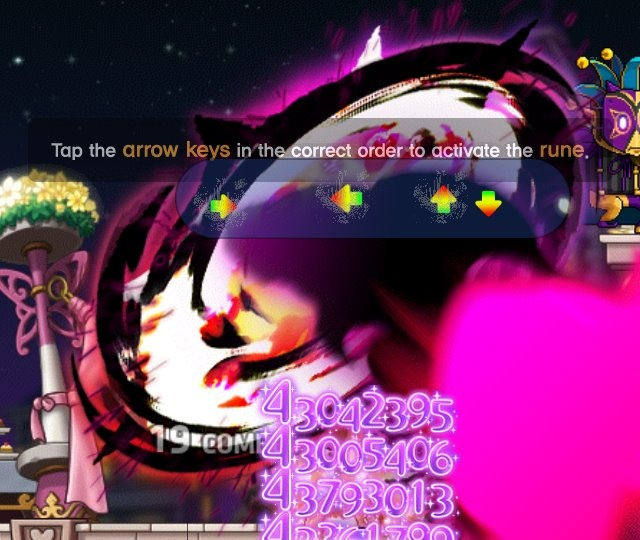rune_box: (167, 152, 582, 247)
